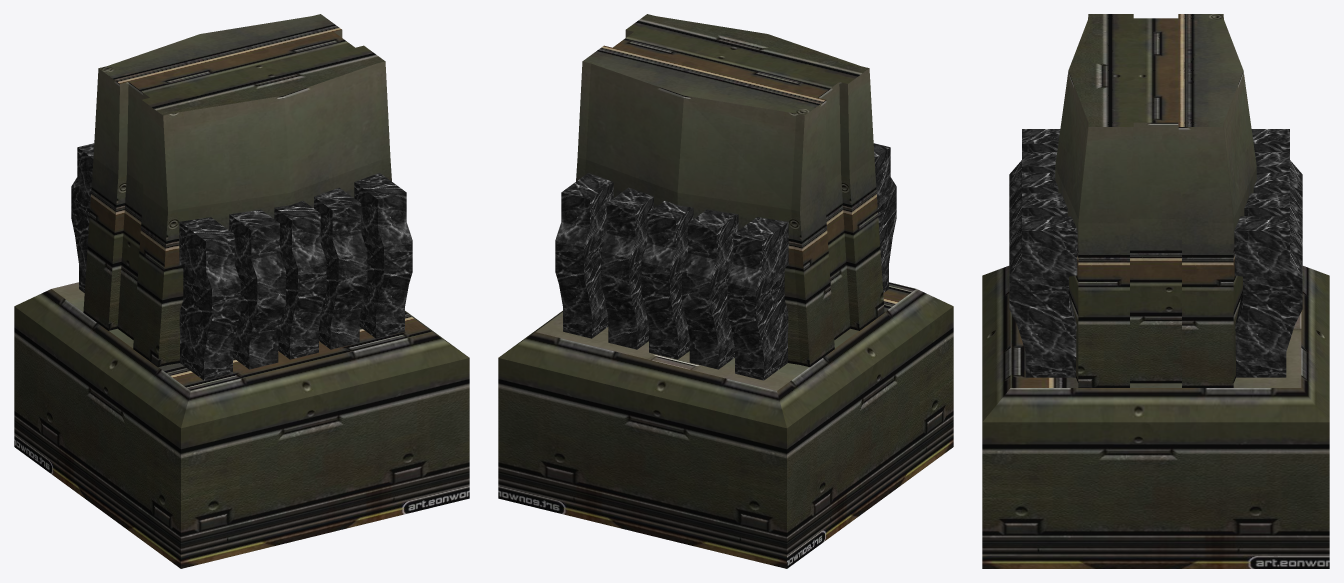
The picture shows the model from 3 angles, left to right: view 1: azimuth 30°, elevation 25°; view 2: azimuth 150°, elevation 25°; view 3: azimuth 270°, elevation 25°; orthographic projection. The views are drawn at different scales.
Visible parts, largest first — view 1: CC; view 2: CC; view 3: CC.
Boxes of the visible parts, <box> form: CC: <box>14,14,469,568</box>; CC: <box>498,14,953,568</box>; CC: <box>982,14,1329,568</box>.
Bounding box in the file's own units: 33.15 × 33.15 × 44.74.
